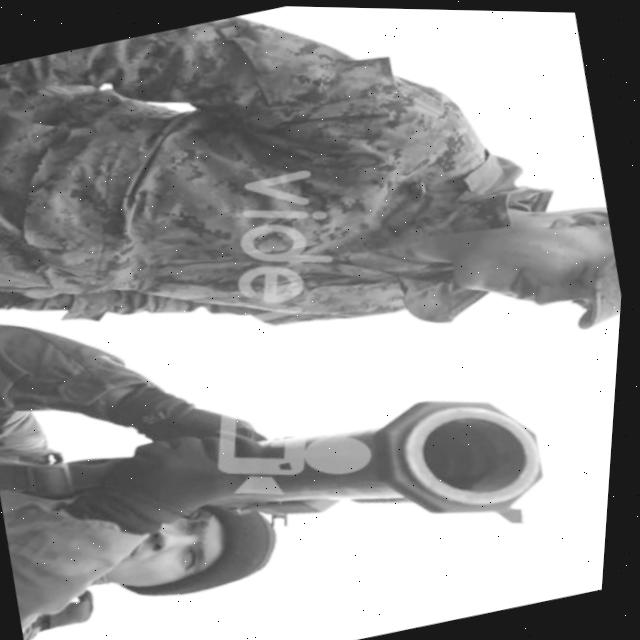rocket: (183, 320, 580, 596)
